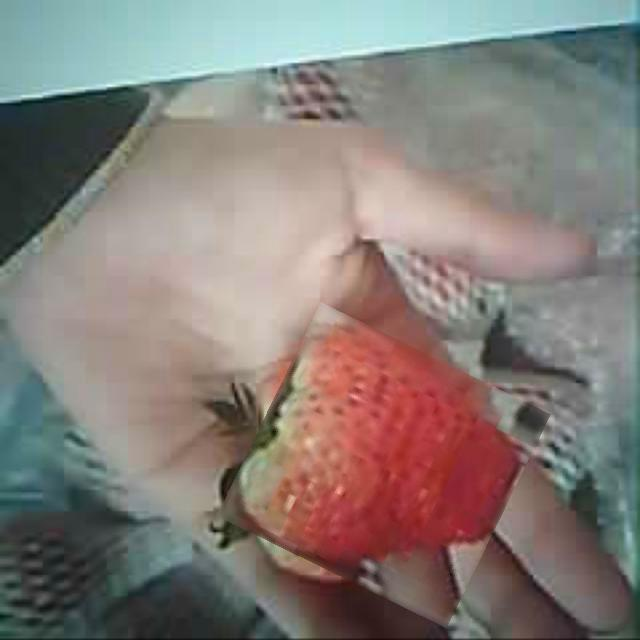strawberry: (236, 324, 531, 606)
